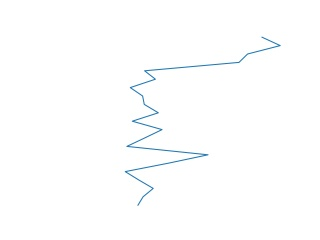crevasseRiverChannelBar: (116, 33, 286, 209)
